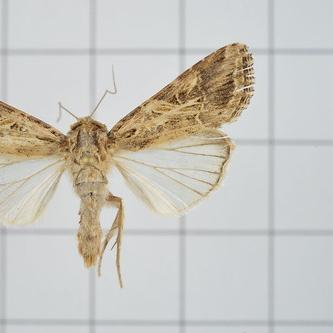Spodoptera litura: (1, 43, 255, 288)
